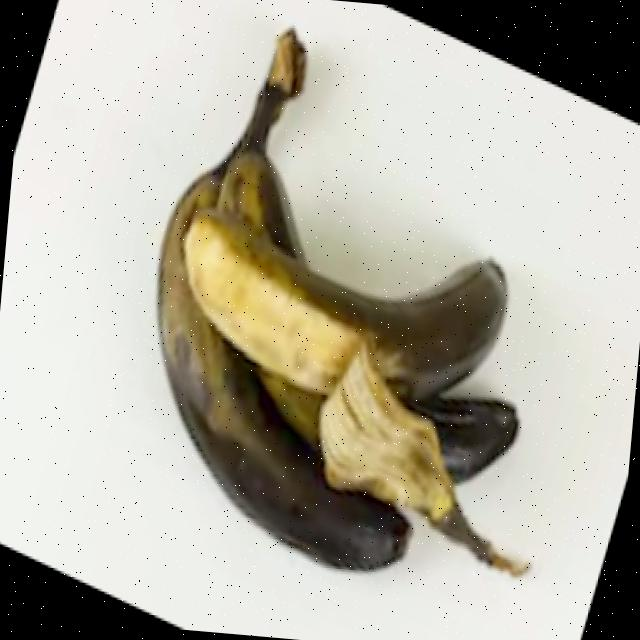rotten banana: (84, 40, 586, 614), (168, 208, 512, 421)
